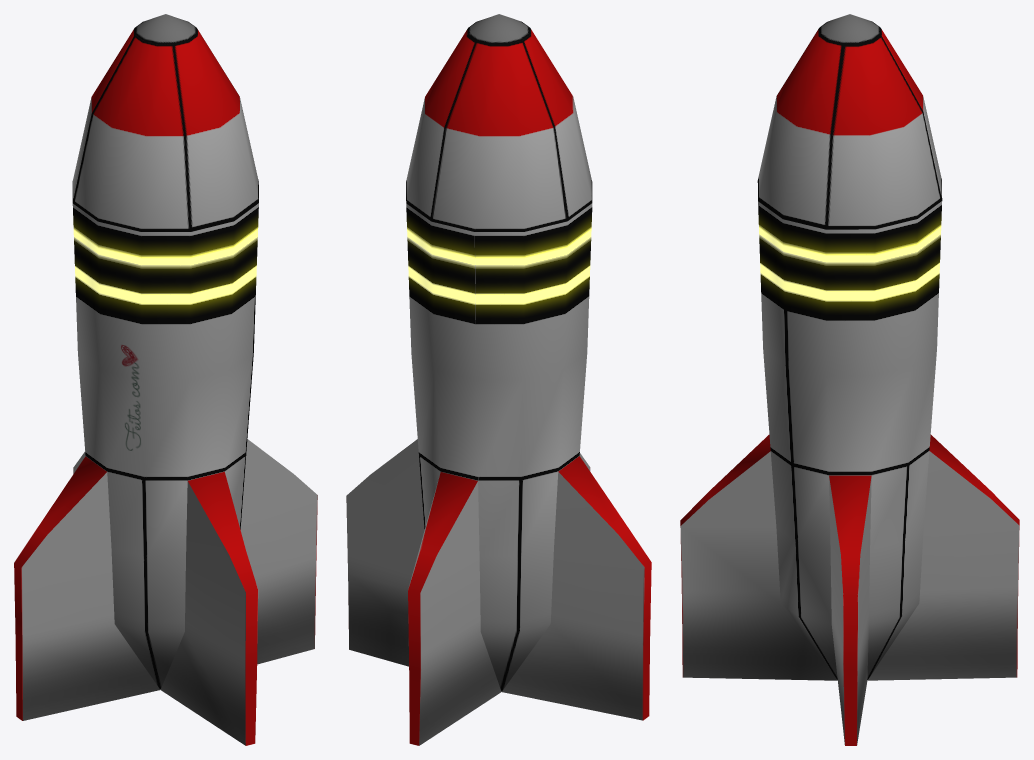
File: missil.FBX
3 views of the same model, side by side, from view 1: azimuth 30°, elevation 25°; view 2: azimuth 150°, elevation 25°; view 3: azimuth 270°, elevation 25° (orthographic).
Visible parts, largest first — view 1: Cylinder001; view 2: Cylinder001; view 3: Cylinder001.
Boxes of the visible parts, x1,y1,x2,y2 form: Cylinder001: [14, 14, 317, 745]; Cylinder001: [346, 14, 651, 745]; Cylinder001: [680, 14, 1019, 745].
Size of the model in its own units: 43.32 by 93.15 by 43.3.
